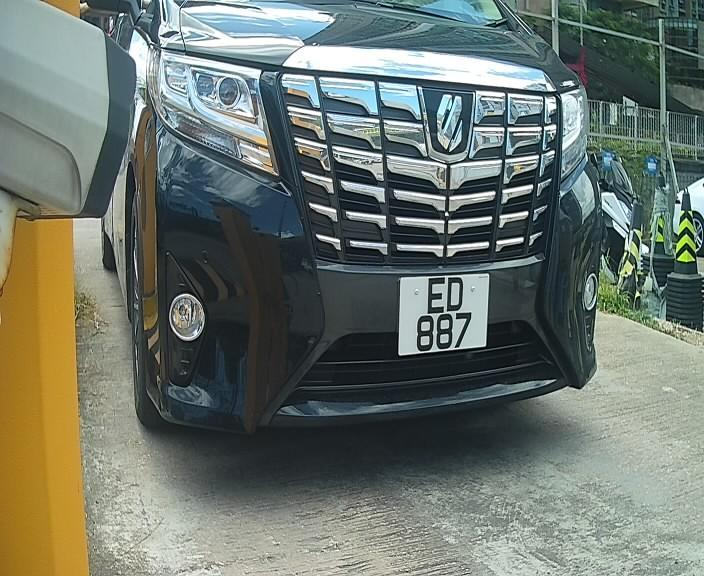privatecar: (60, 8, 661, 461)
